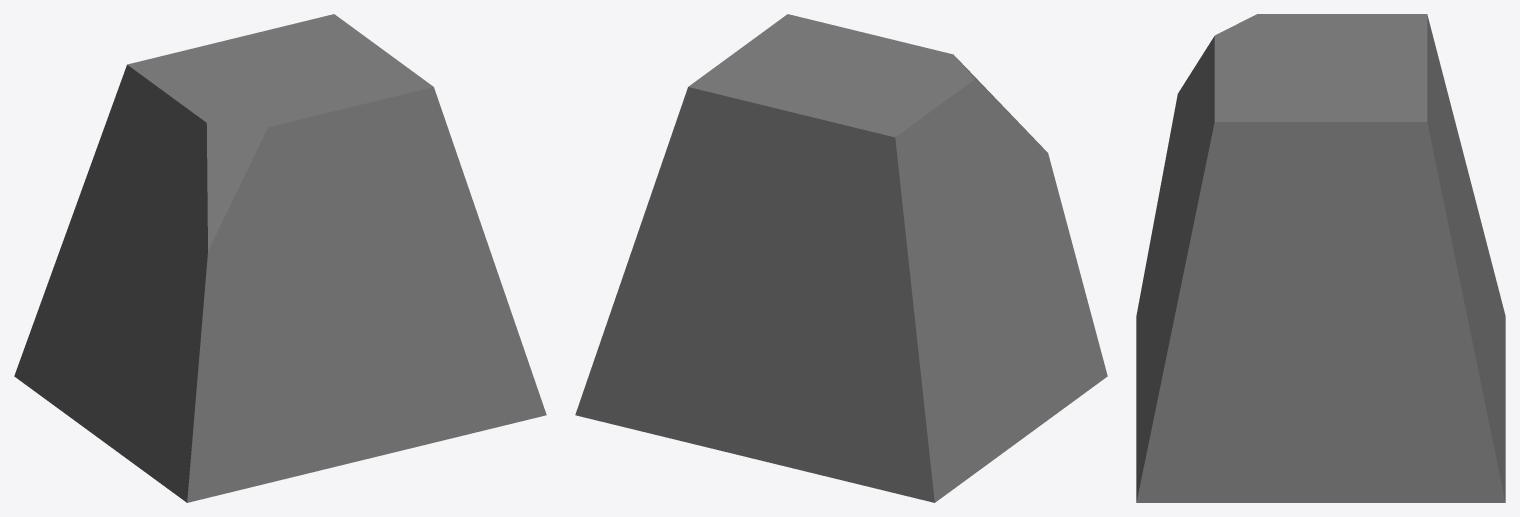
File: Stone 5.fbx
The picture shows the model from 3 angles, left to right: view 1: azimuth 30°, elevation 25°; view 2: azimuth 150°, elevation 25°; view 3: azimuth 270°, elevation 25°; orthographic projection. The views are drawn at different scales.
Visible parts, largest first — view 1: Stone_5; view 2: Stone_5; view 3: Stone_5.
Boxes of the visible parts, <box> form: Stone_5: <box>14,14,546,502</box>; Stone_5: <box>575,14,1107,502</box>; Stone_5: <box>1136,14,1505,502</box>.
Bounding box in the file's own units: 1.06 × 0.9024 × 0.884.
